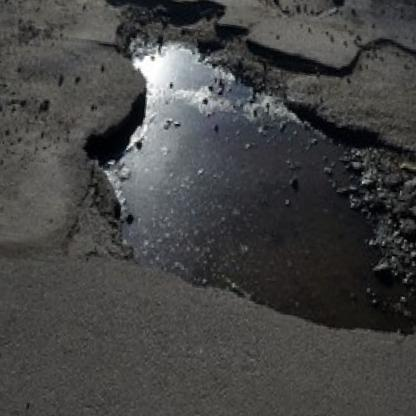pothole: (39, 0, 416, 347), (251, 0, 348, 24)
